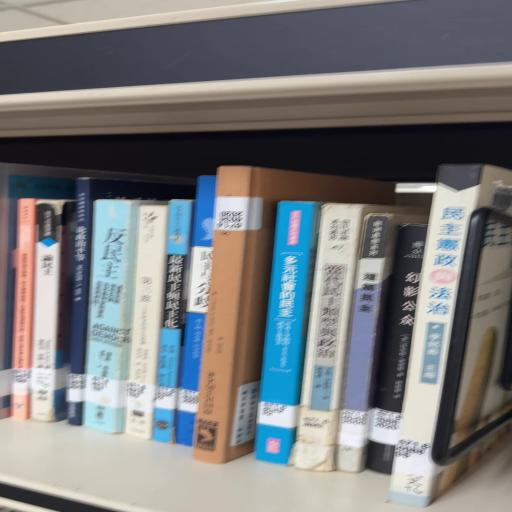reverse: (193, 167, 394, 464)
